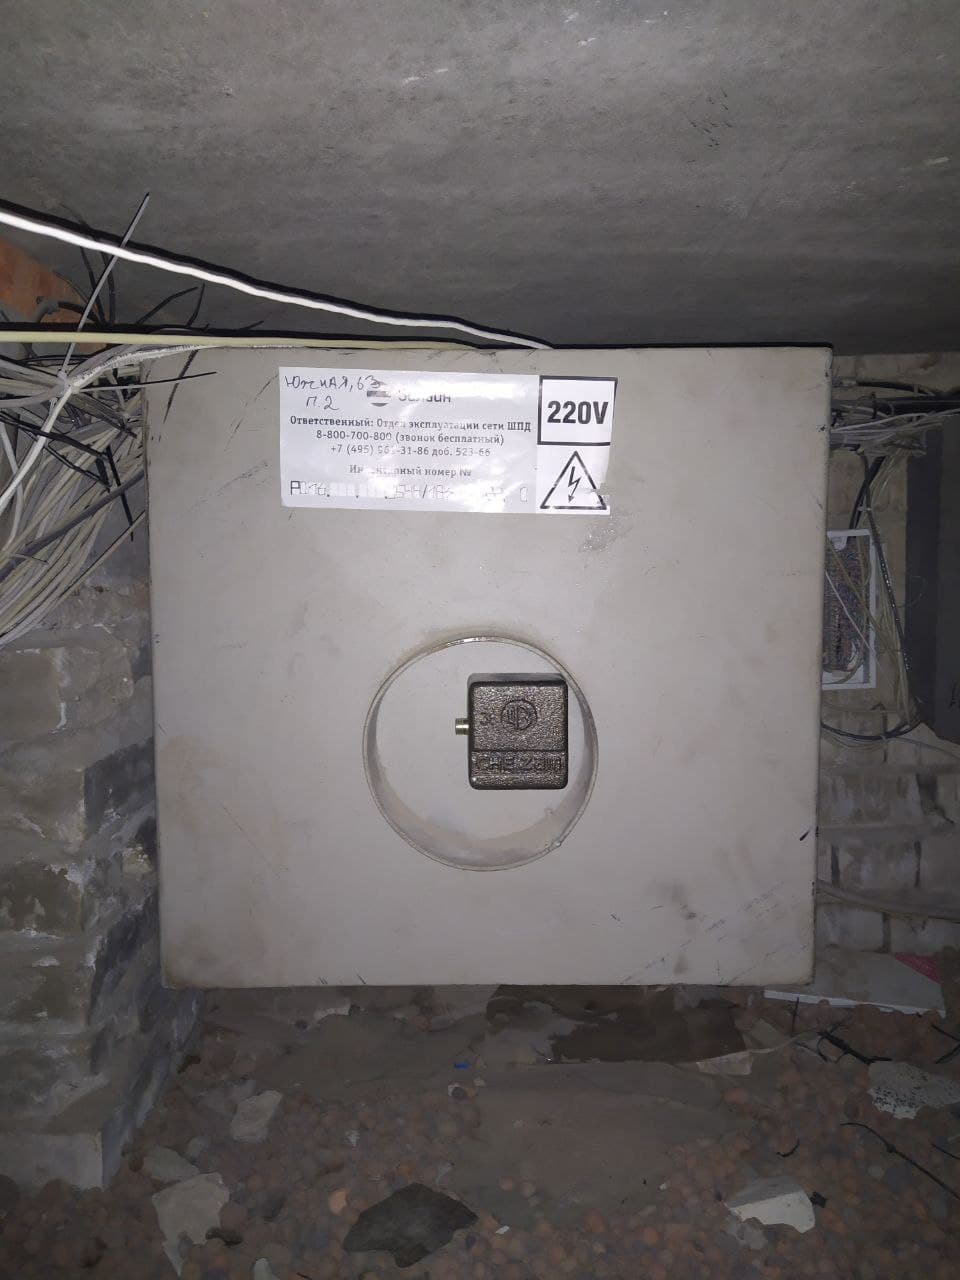shta-9: (126, 322, 843, 997)
